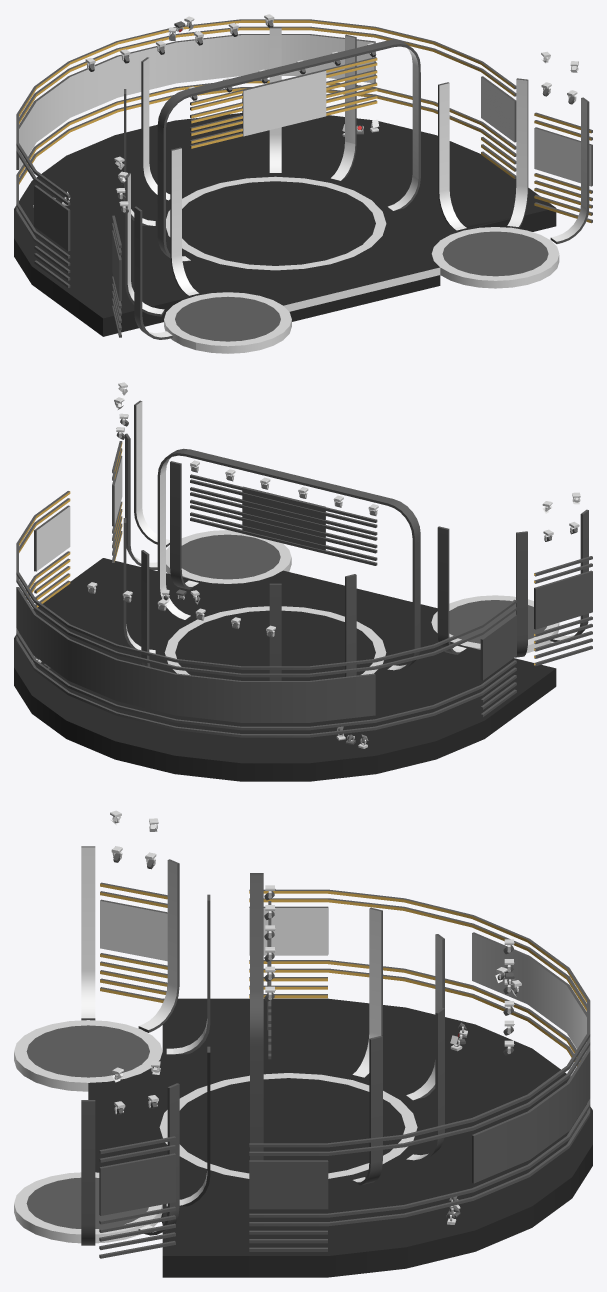
The model's file is stage.fbx.
3 views of the same model, one above another, from view 1: azimuth 30°, elevation 25°; view 2: azimuth 150°, elevation 25°; view 3: azimuth 270°, elevation 25° (orthographic). The views are drawn at different scales.
Parts seen in each view (by area): view 1: Group_001, Group_003, Group_005, Group_004; view 2: Group_001, Group_003, Group_004, Group_005; view 3: Group_001, Group_003.
Part boxes in pixels (<box>): Group_001: <box>14,27,589,353</box>; Group_003: <box>16,19,592,337</box>; Group_005: <box>242,70,326,136</box>; Group_004: <box>190,57,377,148</box>; Group_001: <box>14,400,588,781</box>; Group_003: <box>16,441,592,737</box>; Group_004: <box>190,474,377,565</box>; Group_005: <box>242,486,325,550</box>; Group_001: <box>14,846,592,1277</box>; Group_003: <box>99,882,590,1258</box>.
Bounding box in the file's own units: 2661 × 992 × 2422.
